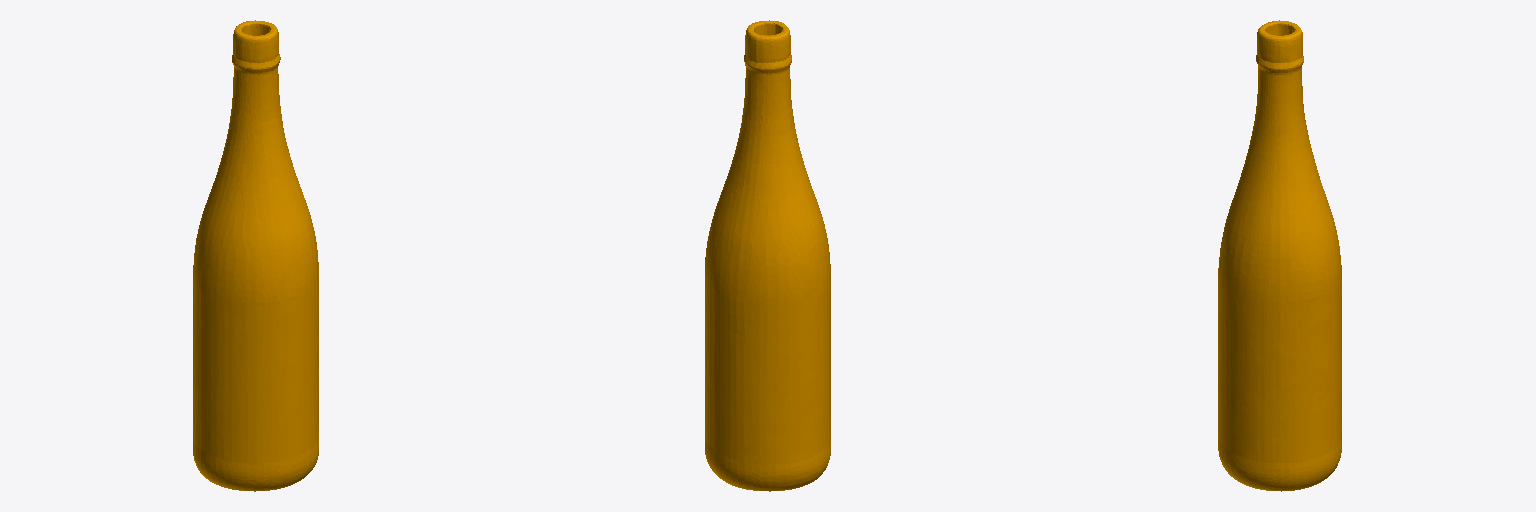
The robot description file, URDF, robot "sample":
<?xml version="1.0" ?>
<robot name="sample">
   <link name="sample">
      <visual>
         <origin xyz="0 0 0" rpy="1.5708 0.0 0.0"/>
         <geometry>
            <mesh filename="mesh/sample.obj" scale="1.0 1.0 1.0"/>
         </geometry>
      </visual>
      <collision>
         <origin xyz="0 0 0" rpy="1.5708 0.0 0.0"/>
         <geometry>
            <mesh filename="mesh/sample_collision.obj" scale="1.0 1.0 1.0"/>
         </geometry>
         <gazebo>
            <mu1>0.70</mu1>
            <mu2>0.50</mu2>
         </gazebo>
      </collision>
      <inertial>
         <mass value="0.7500"/>
         <origin xyz="0 0 0"/>
         <inertia ixx="1.0" ixy="0.0" ixz="0.0" iyy="1.0" iyz="0.0" izz="1.0"/>
      </inertial>
      <extra_info>
         <scale>0.275000</scale>
         <version>v0.1.7</version>
         <category>bottle drink</category>
         <description>amber glass bottle with white label and japanese text</description>
         <min_height>0.25</min_height>
         <max_height>0.3</max_height>
         <real_height>0.275</real_height>
         <min_mass>0.5</min_mass>
         <max_mass>1.0</max_mass>
         <color>brown</color>
         <rgba>[0.6, 0.3, 0.2, 1.0]</rgba>
         <generate_time>20260526162635</generate_time>
         <gs_model>mesh/sample_gs.ply</gs_model>
      </extra_info>
   </link>
   <custom_data>
      <quality>
         <MeshGeoChecker>YES</MeshGeoChecker>
         <ImageSegChecker>YES</ImageSegChecker>
         <ImageAestheticChecker>4.626421570777893</ImageAestheticChecker>
         <overall>YES</overall>
      </quality>
   </custom_data>
</robot>

--- Render facts (derived) ---
Views: 3 orthographic renders of the robot side by side, from view 1: azimuth 30°, elevation 25°; view 2: azimuth 150°, elevation 25°; view 3: azimuth 270°, elevation 25°.
Model sample with 1 links and 0 joints (none), rooted at sample, posed all joints at 0.
Visible links, largest first — view 1: sample; view 2: sample; view 3: sample.
Link boxes in pixels (left/top/right/bottom): sample: left=193, top=20, right=318, bottom=491; sample: left=705, top=20, right=830, bottom=491; sample: left=1218, top=20, right=1341, bottom=491.
Size in the robot's own frame: 0.0719 by 0.0702 by 0.275 metres.
Meshes: 1 distinct files referenced, 1 mesh visuals loaded (1 OBJ).
